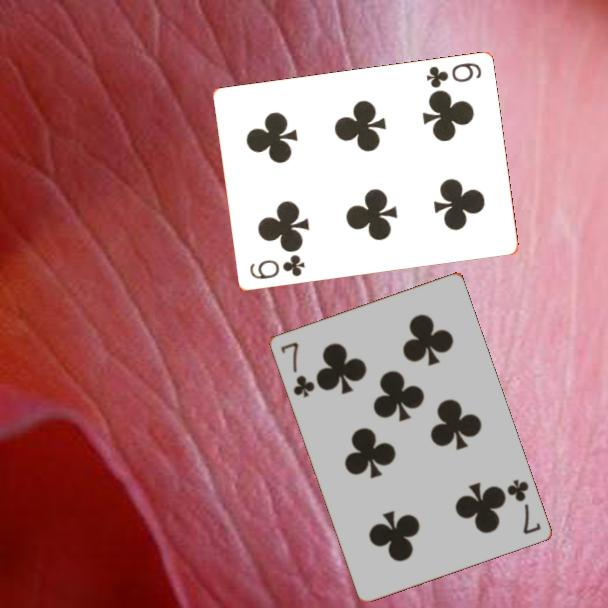c06: (423, 59, 484, 91), (246, 252, 308, 282)
c07: (277, 338, 317, 400), (503, 475, 543, 537)
